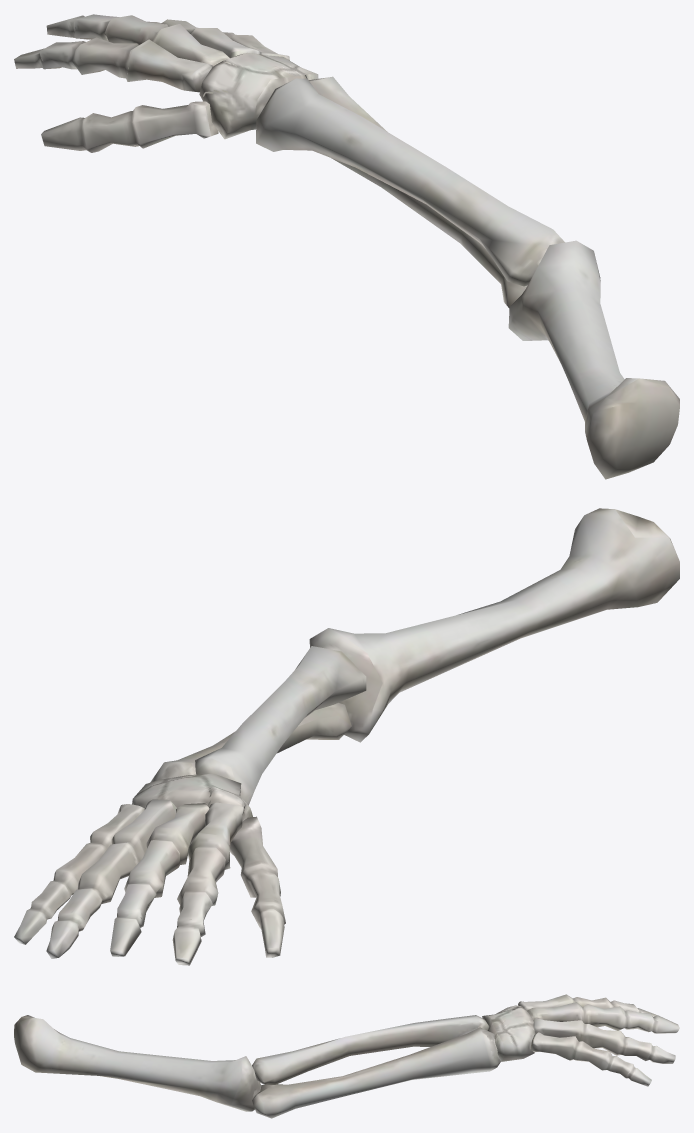
3 renders of one model, top to bottom at view 1: azimuth 30°, elevation 25°; view 2: azimuth 150°, elevation 25°; view 3: azimuth 270°, elevation 25°, orthographic. The views are drawn at different scales.
Parts seen in each view (by area): view 1: SM_Arm_R_LOD0; view 2: SM_Arm_R_LOD0; view 3: SM_Arm_R_LOD0.
Part boxes in pixels (<box>): SM_Arm_R_LOD0: <box>14,14,679,479</box>; SM_Arm_R_LOD0: <box>14,508,679,965</box>; SM_Arm_R_LOD0: <box>14,994,679,1118</box>.
Size of the model in its own units: 0.2268 by 0.1053 by 0.802.
Materials: 1 (1 with a texture image).
